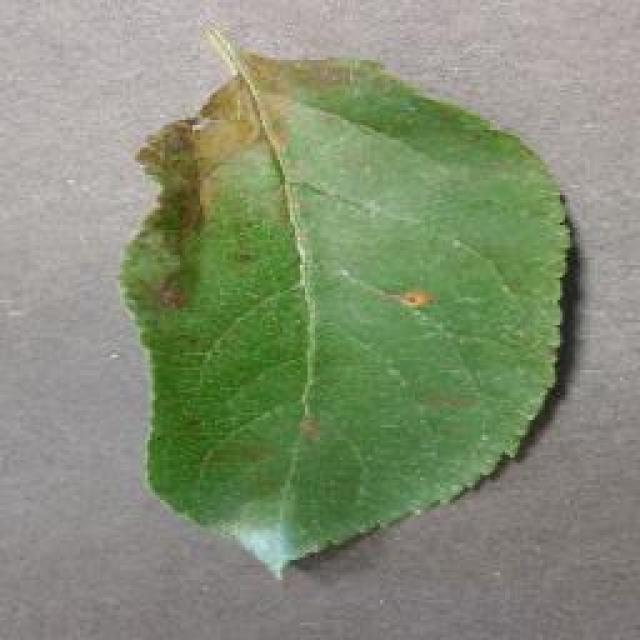apple healthy: (115, 25, 577, 580)
